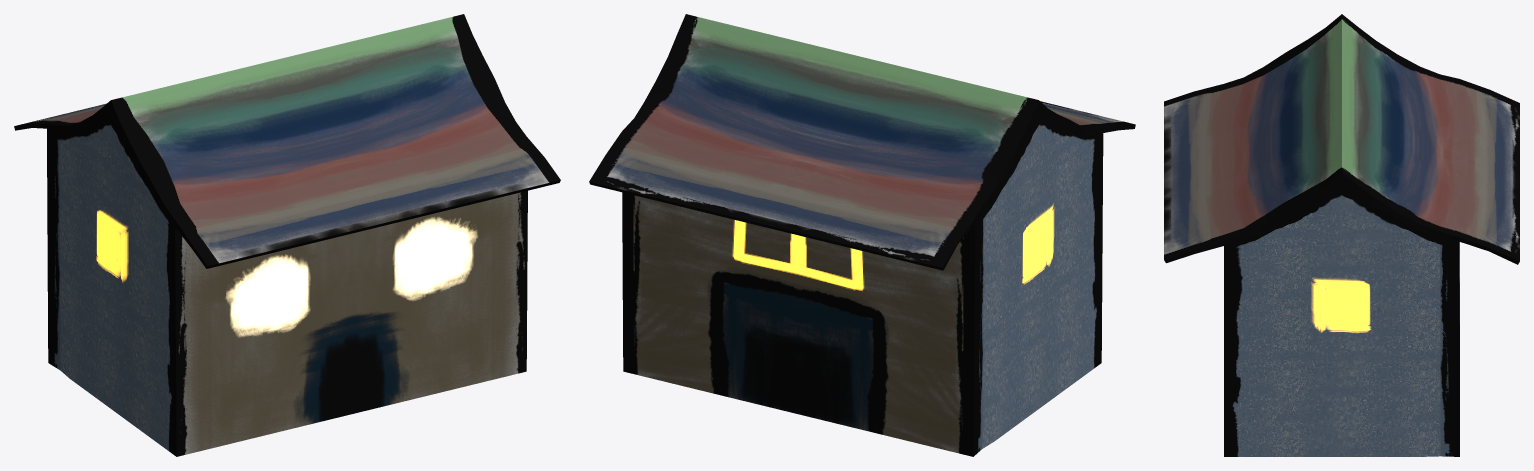
The model's file is CASA 1.fbx.
3 renders of one model, left to right at view 1: azimuth 30°, elevation 25°; view 2: azimuth 150°, elevation 25°; view 3: azimuth 270°, elevation 25°, orthographic. The views are drawn at different scales.
Visible parts, largest first — view 1: casa 1.001; view 2: casa 1.001; view 3: casa 1.001.
Boxes of the visible parts, left/top/right/bottom form: casa 1.001: left=14, top=14, right=560, bottom=456; casa 1.001: left=589, top=14, right=1135, bottom=456; casa 1.001: left=1164, top=14, right=1519, bottom=456.
Bounding box in the file's own units: 540 × 453 × 512.
1 material, 1 textured.
